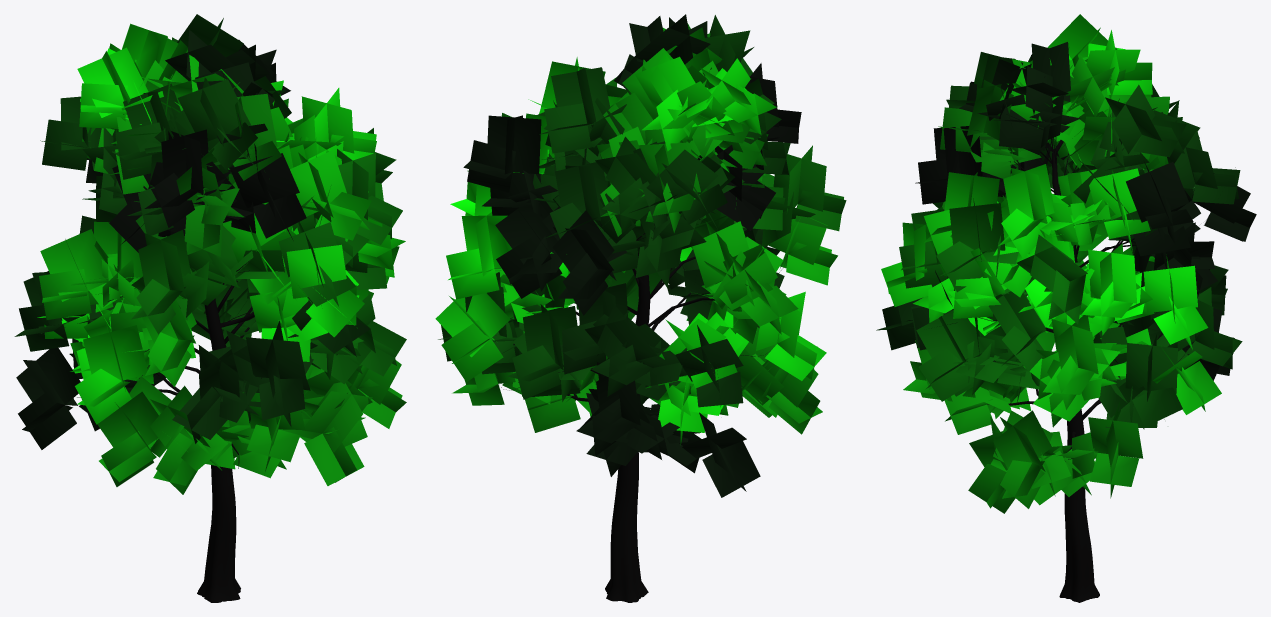
The model's file is Type_1_8.fbx.
3 renders of one model, left to right at view 1: azimuth 30°, elevation 25°; view 2: azimuth 150°, elevation 25°; view 3: azimuth 270°, elevation 25°, orthographic. The views are drawn at different scales.
Parts seen in each view (by area): view 1: Type_1_8; view 2: Type_1_8; view 3: Type_1_8.
Boxes of the visible parts, x1=… form: Type_1_8: x1=14, y1=14, x2=406, y2=602; Type_1_8: x1=435, y1=14, x2=846, y2=602; Type_1_8: x1=876, y1=14, x2=1256, y2=602.
Size of the model in its own units: 361 by 571 by 369.
